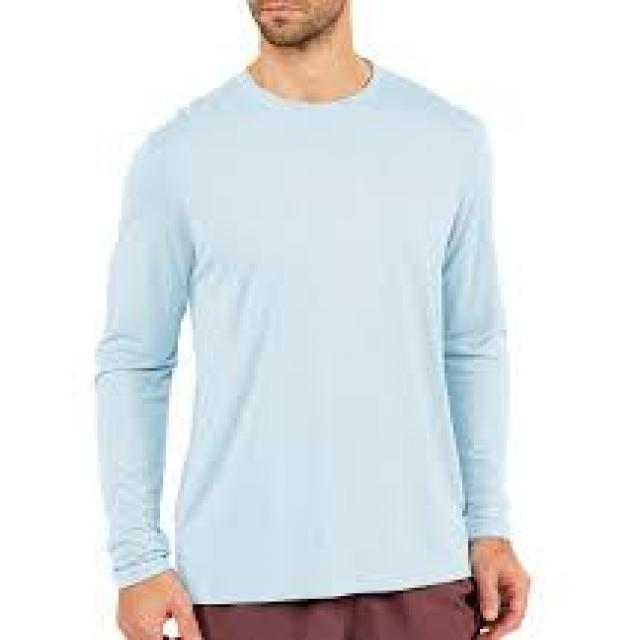plain: (89, 72, 521, 588)
